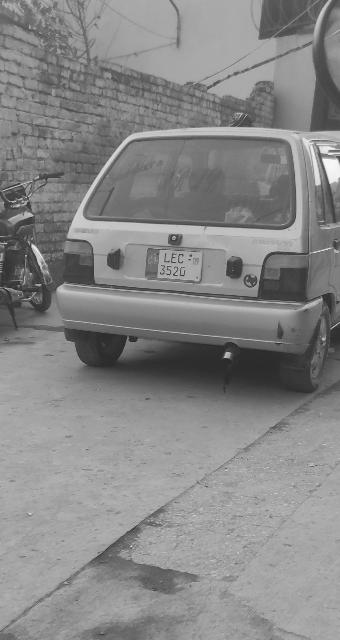Number: (159, 251, 191, 279)
